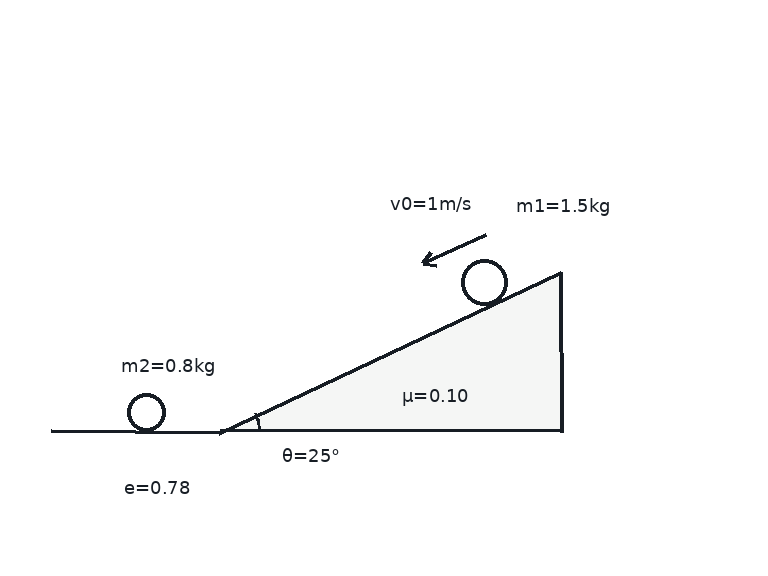ball: (459, 257, 509, 307), (125, 391, 167, 433)
ramp: (217, 270, 563, 433)
